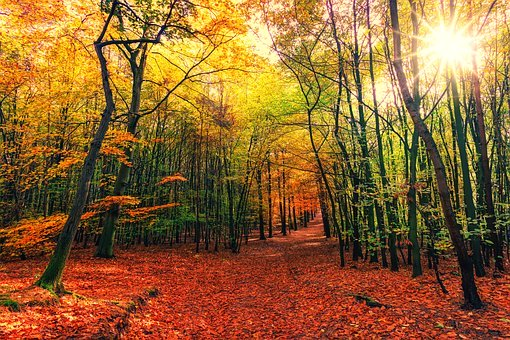forest: (7, 9, 505, 245)
tree: (56, 9, 147, 256), (105, 4, 196, 251), (379, 7, 470, 254)
